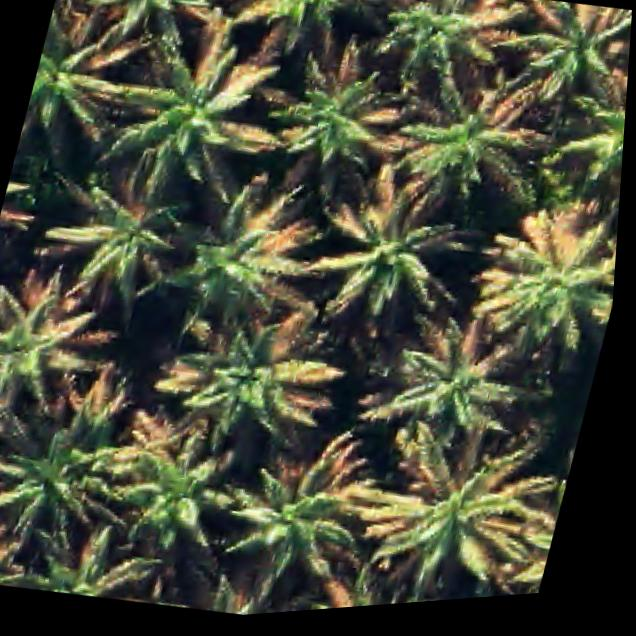oilpalm: (86, 21, 285, 203), (369, 44, 562, 229), (149, 151, 339, 324), (366, 413, 547, 593), (153, 278, 341, 449), (207, 420, 390, 589), (368, 296, 542, 467), (87, 397, 251, 574), (263, 28, 430, 192), (0, 379, 153, 558), (468, 188, 620, 367), (47, 150, 205, 308), (310, 166, 466, 319), (0, 253, 113, 417), (503, 0, 634, 110), (539, 49, 630, 205), (51, 0, 237, 72)
